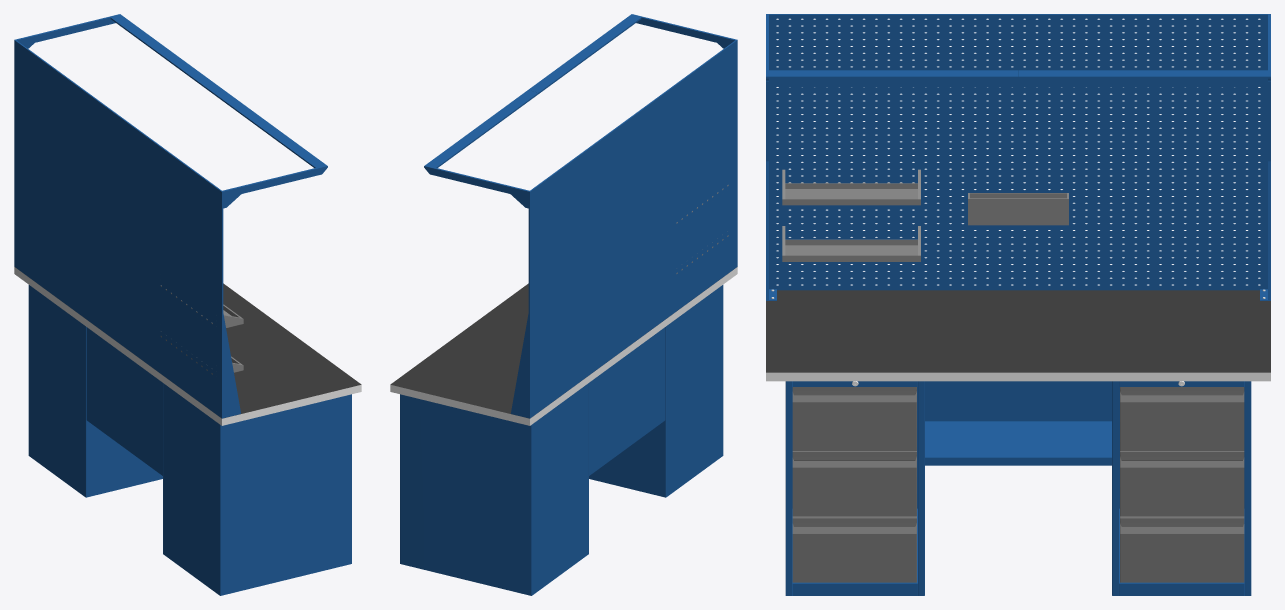
File: atölye_masası.glb
3 views of the same model, side by side, from view 1: azimuth 30°, elevation 25°; view 2: azimuth 150°, elevation 25°; view 3: azimuth 270°, elevation 25° (orthographic). The views are drawn at different scales.
Visible parts, largest first — view 1: polySurface104_pasted__aiStandardSurface2_0_18, polySurface97_aiStandardSurface2_0_31, polySurface103_aiStandardSurface4_0_15, polySurface98_aiStandardSurface2_0_28, polySurface104_aiStandardSurface2_0_17, polySurface103_aiStandardSurface6_0_14; view 2: polySurface104_pasted__aiStandardSurface2_0_18, polySurface97_aiStandardSurface2_0_31, polySurface103_aiStandardSurface4_0_15, polySurface98_aiStandardSurface2_0_28, polySurface104_aiStandardSurface2_0_17, polySurface103_aiStandardSurface6_0_14; view 3: polySurface104_pasted__aiStandardSurface2_0_18, polySurface94_aiStandardSurface5_0_26, polySurface103_aiStandardSurface4_0_15, polySurface98_aiStandardSurface2_0_28, polySurface97_aiStandardSurface2_0_31, polySurface104_aiStandardSurface2_0_17, polySurface103_aiStandardSurface6_0_14, polySurface100_aiStandardSurface1_0_8, polySurface99_aiStandardSurface1_0_6, polySurface107_aiStandardSurface1_0_24.
Part boxes in pixels (x1,y1,x2,y2): polySurface104_pasted__aiStandardSurface2_0_18: (15,41,220,417); polySurface97_aiStandardSurface2_0_31: (28,285,351,595); polySurface103_aiStandardSurface4_0_15: (18,269,361,418); polySurface98_aiStandardSurface2_0_28: (86,327,162,475); polySurface104_aiStandardSurface2_0_17: (14,14,327,418); polySurface103_aiStandardSurface6_0_14: (14,267,361,425); polySurface104_pasted__aiStandardSurface2_0_18: (531,41,736,417); polySurface97_aiStandardSurface2_0_31: (400,285,723,595); polySurface103_aiStandardSurface4_0_15: (390,269,733,418); polySurface98_aiStandardSurface2_0_28: (589,327,665,475); polySurface104_aiStandardSurface2_0_17: (424,14,737,418); polySurface103_aiStandardSurface6_0_14: (390,267,737,425); polySurface104_pasted__aiStandardSurface2_0_18: (769,14,1267,290); polySurface94_aiStandardSurface5_0_26: (792,387,1244,582); polySurface103_aiStandardSurface4_0_15: (766,290,1270,372); polySurface98_aiStandardSurface2_0_28: (917,381,1119,465); polySurface97_aiStandardSurface2_0_31: (785,381,1251,595); polySurface104_aiStandardSurface2_0_17: (766,14,1270,300); polySurface103_aiStandardSurface6_0_14: (766,372,1270,381); polySurface100_aiStandardSurface1_0_8: (968,193,1068,225); polySurface99_aiStandardSurface1_0_6: (782,169,920,205); polySurface107_aiStandardSurface1_0_24: (782,226,920,261).
Bounding box in the file's own units: 4.95 × 13.92 × 12.73.
Materials: 7 (1 with a texture image).
